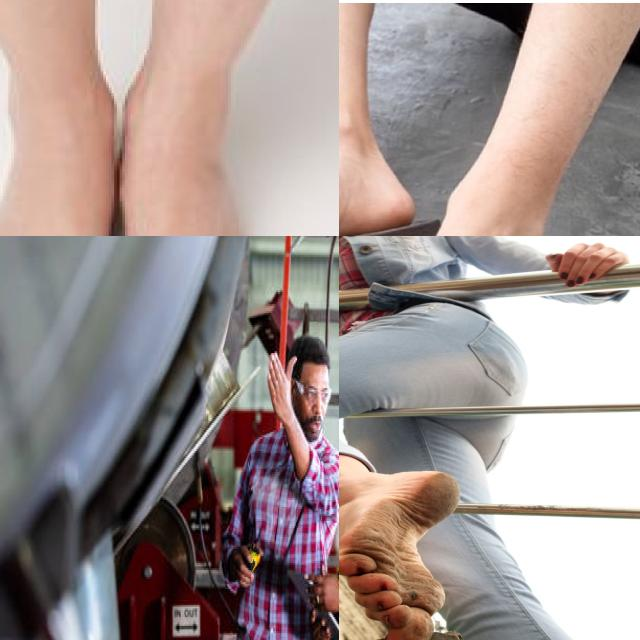Barefoots: (0, 86, 282, 236), (339, 471, 461, 640)
No_Ear-Protection: (290, 378, 298, 402)
Sandals: (339, 135, 592, 236)
face_nomask: (291, 383, 326, 442)
glasses: (295, 380, 331, 405)
hand_noglove: (268, 354, 296, 423), (229, 544, 255, 588), (314, 573, 339, 613)
head_nohelmet: (289, 335, 329, 380)
